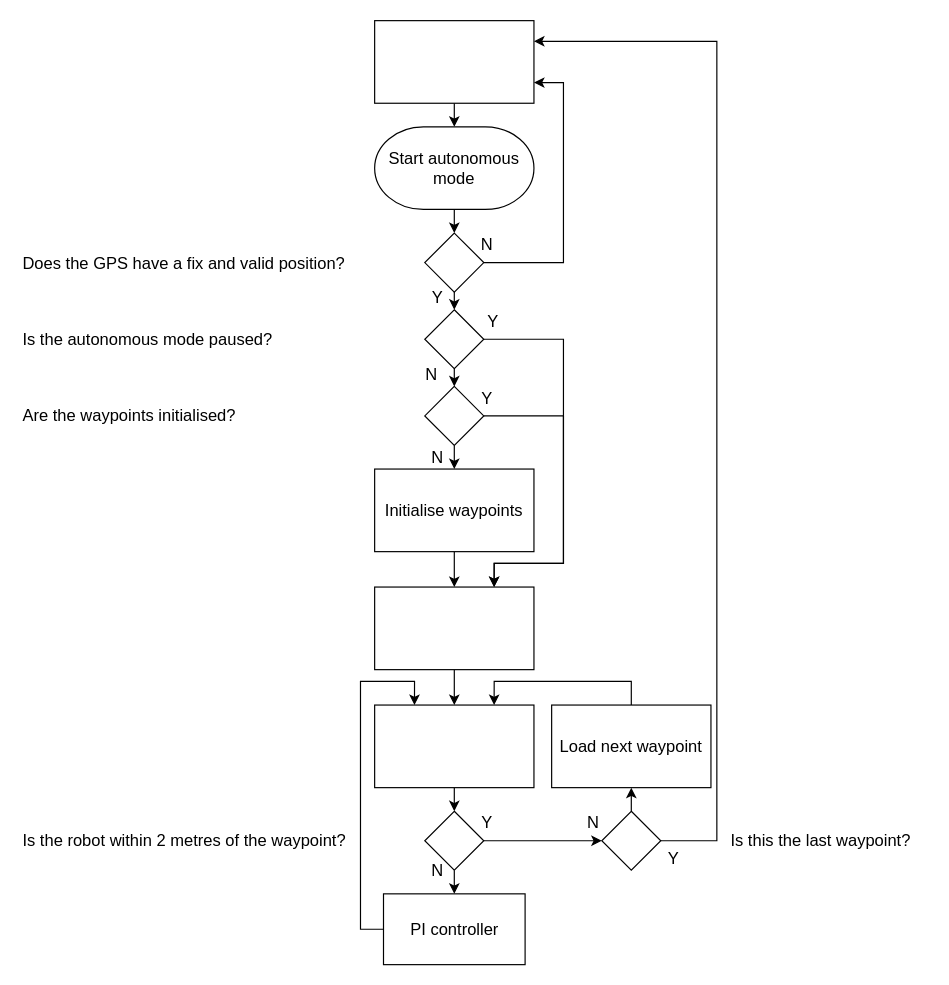
Some shapes in this 949 by 985 pixel diagram are drawn without their labels. The centre of each missing label's shape, as x and y in pixels:
"Autonomous mode started" goes at point 453,628.
"Autonomous mode stopped" goes at point 453,61.
"Distance and bearing between current and target location" goes at point 453,746.
